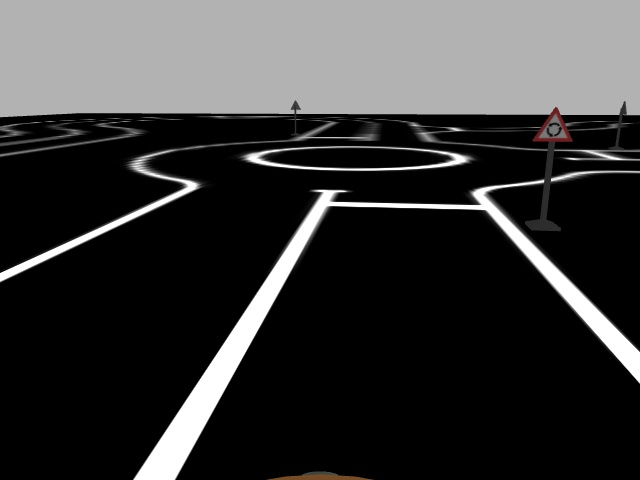roundabout: (532, 106, 574, 143)
